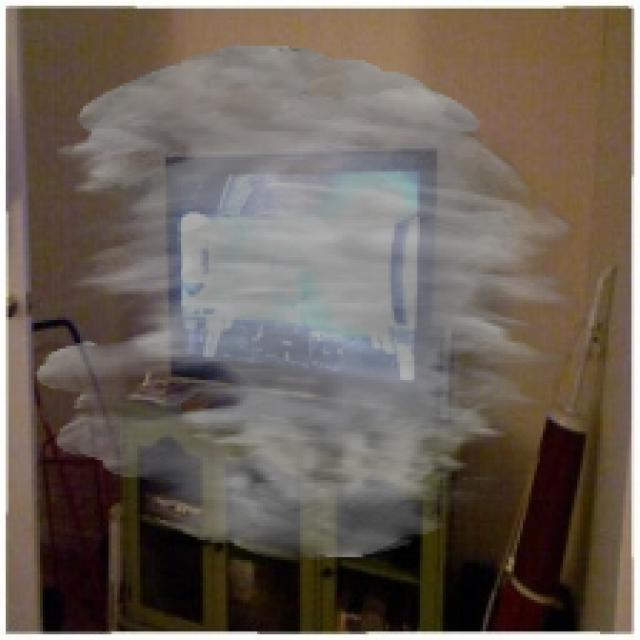Smoke: (34, 46, 580, 560)
